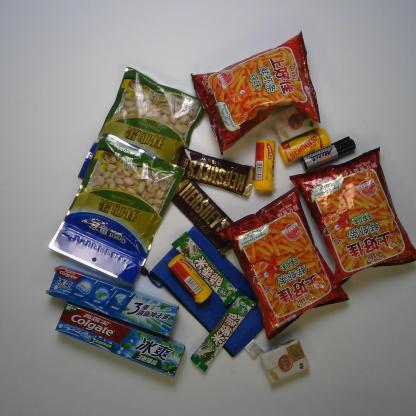Candy: (275, 116, 337, 172), (159, 250, 215, 311), (249, 134, 279, 199)
Chocolate: (163, 178, 242, 260), (169, 226, 242, 308), (186, 292, 259, 374), (163, 138, 257, 198)
Dried Fruit: (74, 48, 206, 216), (43, 124, 180, 281)
Personal Hygiene: (45, 297, 191, 391), (45, 254, 187, 346)
Puffed Food: (212, 172, 364, 338), (174, 26, 340, 154), (288, 134, 412, 297)
Stationery: (145, 224, 285, 362), (298, 130, 361, 180)
Tissue: (248, 334, 318, 391), (262, 91, 329, 142)
